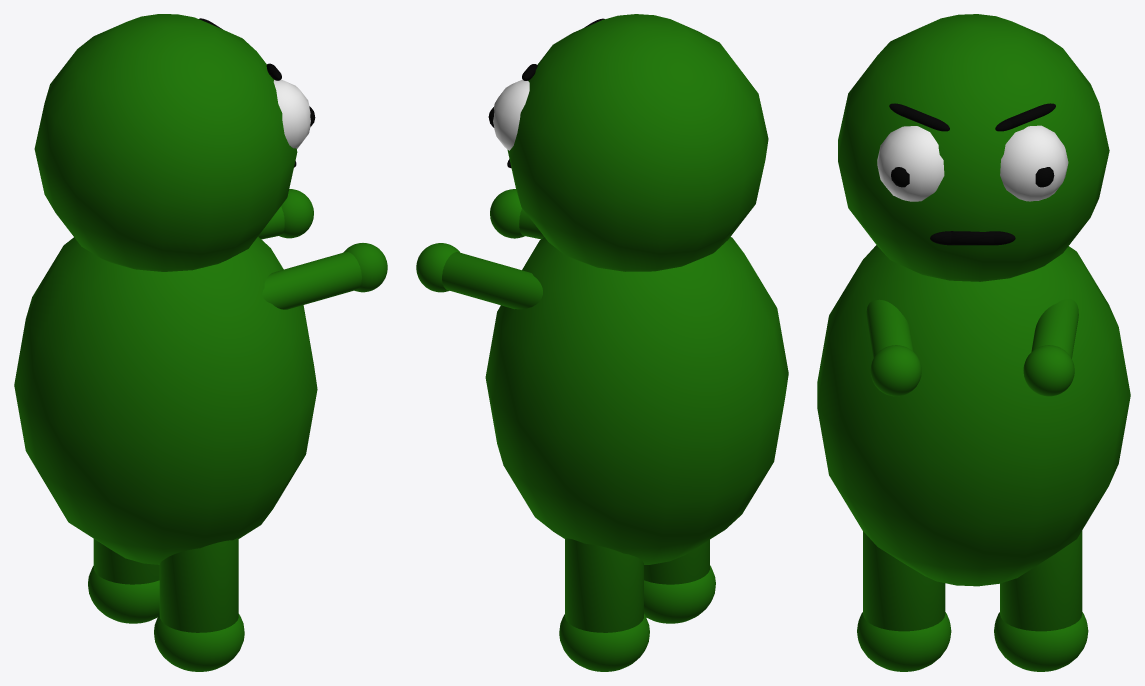
The model's file is Zombiefbx.fbx.
3 views of the same model, side by side, from view 1: azimuth 30°, elevation 25°; view 2: azimuth 150°, elevation 25°; view 3: azimuth 270°, elevation 25° (orthographic). The views are drawn at different scales.
Visible parts, largest first — view 1: Sphere, Sphere.001, Cylinder.003, Cylinder.001, Cylinder, Cylinder.002, Sphere.003; view 2: Sphere, Sphere.001, Cylinder, Cylinder.002, Cylinder.003, Cylinder.001, Sphere.002; view 3: Sphere, Sphere.001, Cylinder, Cylinder.003, Cylinder.002, Cylinder.001, Sphere.002, Sphere.003, Cylinder.006, Cylinder.004, Cylinder.005.
Part boxes in pixels (x1,y1,x2,y2): Sphere: (14, 236, 317, 564); Sphere.001: (34, 14, 297, 271); Cylinder.003: (154, 538, 244, 671); Cylinder.001: (262, 243, 387, 309); Cylinder: (88, 539, 159, 623); Cylinder.002: (258, 189, 313, 239); Sphere.003: (273, 79, 310, 148); Sphere: (485, 237, 788, 564); Sphere.001: (507, 14, 768, 271); Cylinder: (559, 538, 649, 671); Cylinder.002: (416, 243, 542, 309); Cylinder.003: (644, 539, 715, 623); Cylinder.001: (490, 189, 544, 239); Sphere.002: (493, 80, 529, 150); Sphere: (817, 245, 1130, 586); Sphere.001: (838, 14, 1109, 281); Cylinder: (994, 530, 1088, 671); Cylinder.003: (857, 531, 951, 671); Cylinder.002: (1023, 299, 1078, 396); Cylinder.001: (866, 299, 921, 396); Sphere.002: (1000, 125, 1068, 201); Sphere.003: (877, 126, 944, 201); Cylinder.006: (930, 231, 1015, 245); Cylinder.004: (995, 103, 1055, 131); Cylinder.005: (889, 103, 949, 131).
Size of the model in its own units: 274 by 516 by 229.
